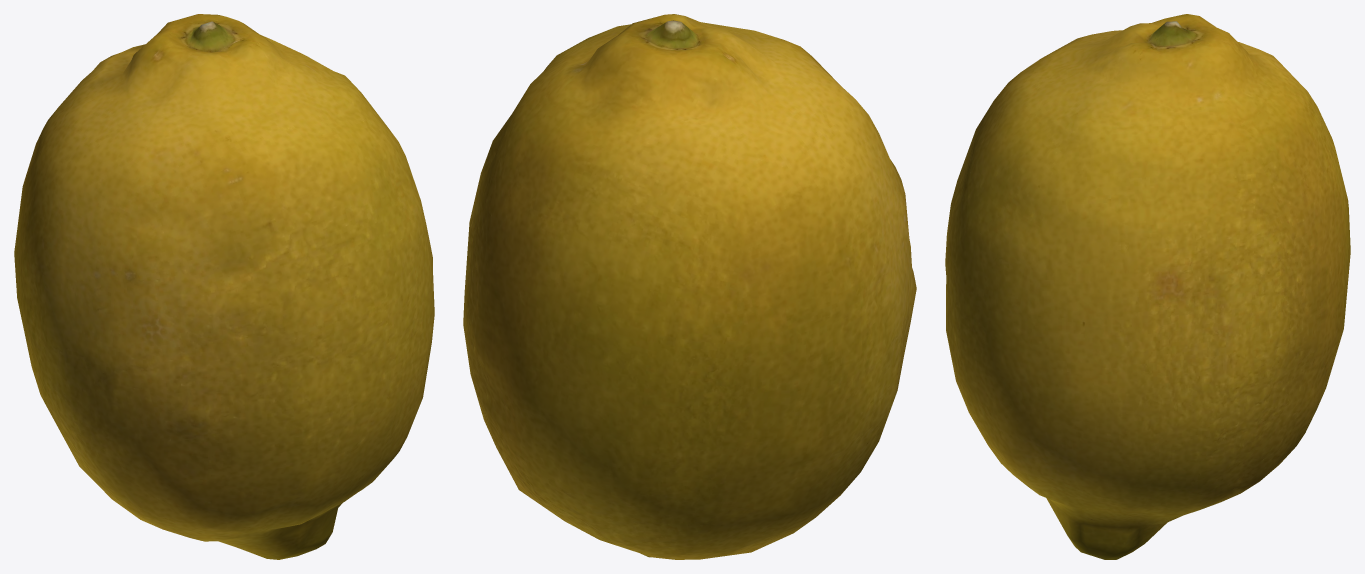
Rendered from lemon.glb.
3 views of the same model, side by side, from view 1: azimuth 30°, elevation 25°; view 2: azimuth 150°, elevation 25°; view 3: azimuth 270°, elevation 25° (orthographic). The views are drawn at different scales.
Parts seen in each view (by area): view 1: lemon; view 2: lemon; view 3: lemon.
Boxes of the visible parts, x1,y1,x2,y2 form: lemon: (14, 14, 434, 559); lemon: (463, 14, 916, 559); lemon: (945, 14, 1350, 559).
Size of the model in its own units: 0.0685 by 0.0953 by 0.0682.
Materials: 1 (1 with a texture image).
